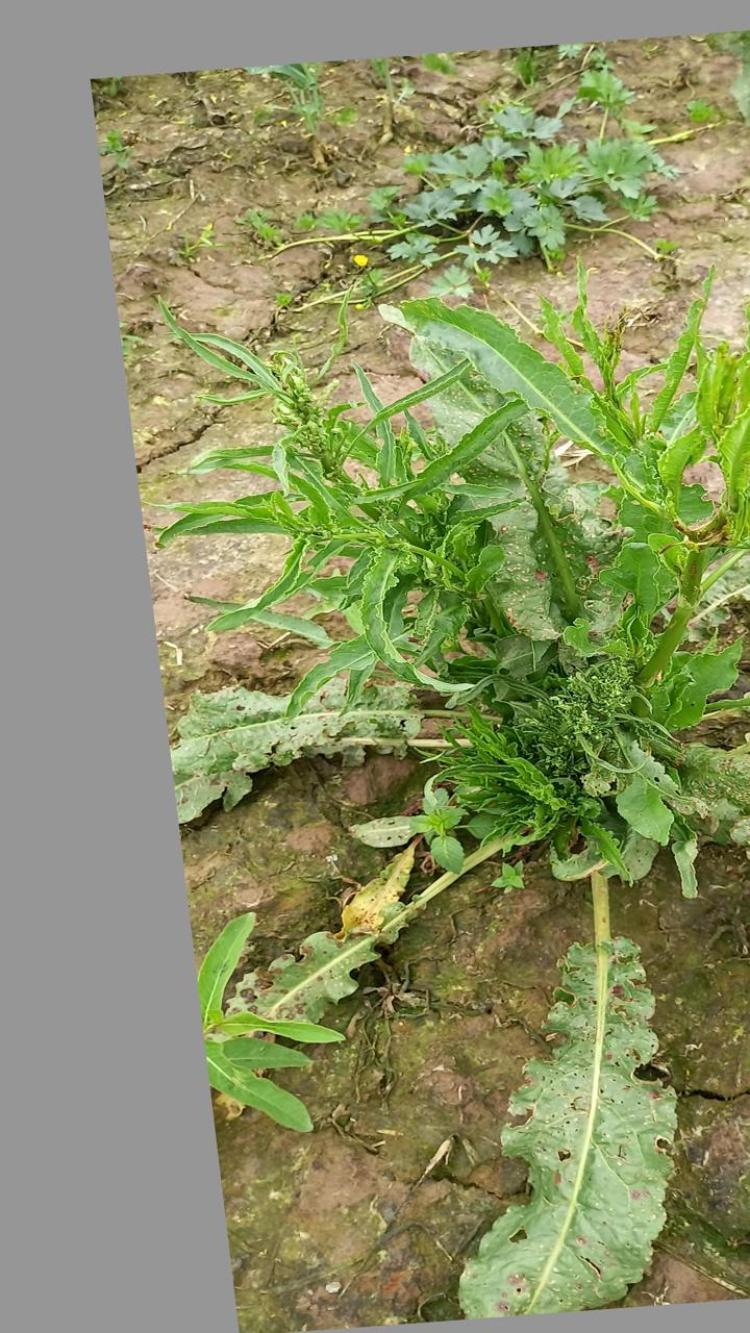zhavel: (135, 286, 750, 1316)
